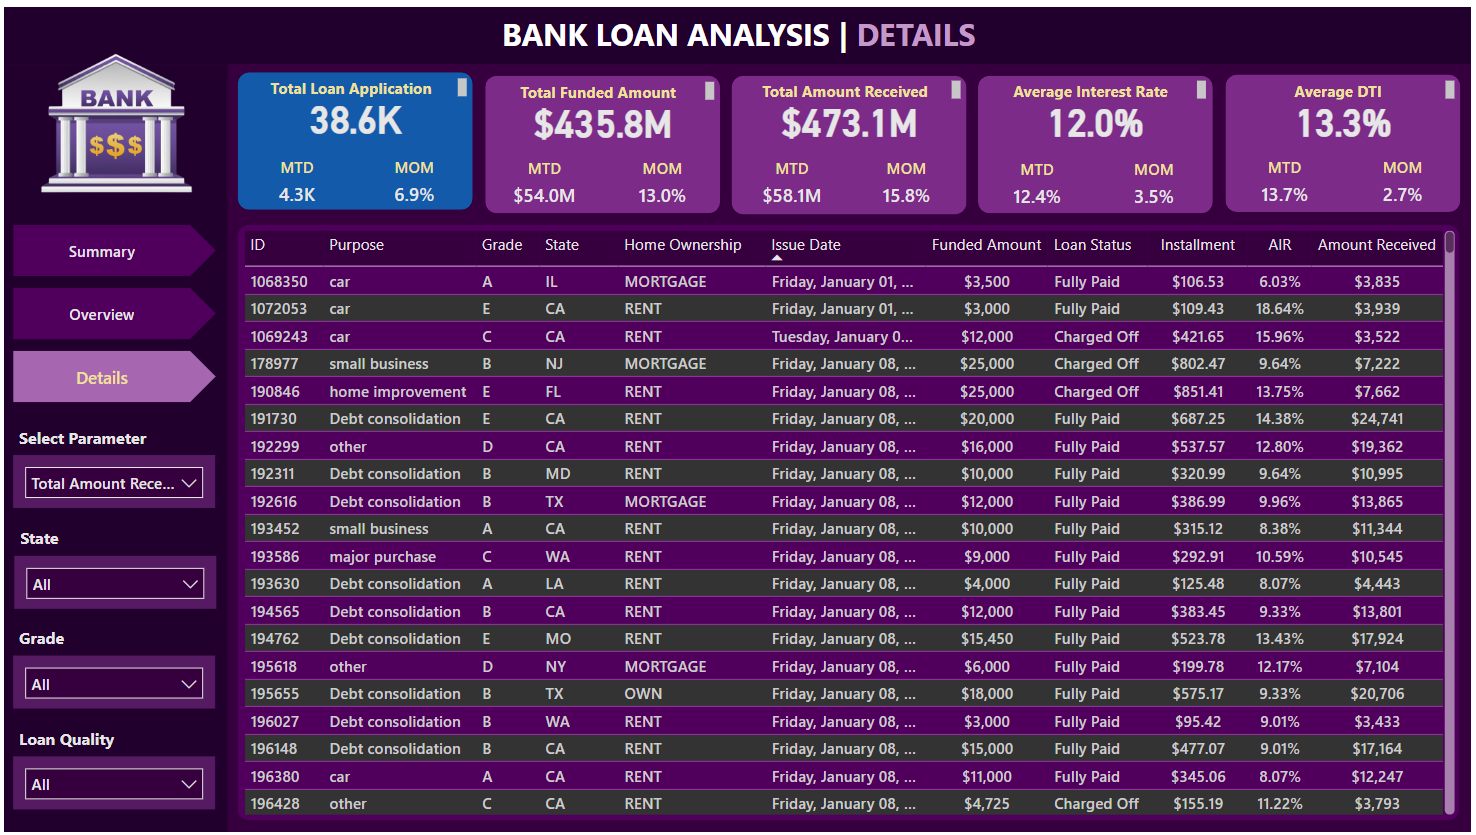

What the dashboard file says about the page in this screenshot:
{"tool":"powerbi","page":{"name":"Details","canvas":[1280,720],"ordinal":2},"visuals":[{"type":"shape","box":[0,0,1280,49.6],"z":0},{"type":"shape","box":[204.2,189.8,1066.5,519.8],"z":0,"group":"g6"},{"type":"shape","box":[0,49.5,195,670.4],"z":1000},{"type":"textbox","box":[401.1,0,479.9,49.4],"z":2000},{"type":"group","id":"g1","title":"Group 1","box":[204.1,57.3,205,124.5],"z":3000},{"type":"shape","box":[204.1,57.3,205,120],"z":3000,"group":"g1"},{"type":"shape","box":[1065.9,58.7,205,120],"z":3000,"group":"g4"},{"type":"shape","box":[419.6,59.8,205,120],"z":3000,"group":"g2"},{"type":"shape","box":[850.5,60,205,119.8],"z":3000,"group":"g3"},{"type":"shape","box":[635,59.5,205,121.1],"z":4000,"group":"g5"},{"type":"group","id":"g2","title":"Group 1","box":[419.6,59.8,205,123],"z":4000},{"type":"card","fields":{"Values":["loan_data.Total loan applications"]},"box":[204.1,73.8,205,45.9],"z":4000,"group":"g1"},{"type":"card","fields":{"Values":["loan_data.Average interest rate"]},"box":[850.5,75.2,204.5,45.9],"z":4000,"group":"g3"},{"type":"card","fields":{"Values":["loan_data.Average dti"]},"box":[1065.9,75.2,205,45.9],"z":4000,"group":"g4"},{"type":"card","fields":{"Values":["loan_data.Total funded amount"]},"box":[419.6,76.3,205,45.9],"z":4000,"group":"g2"},{"type":"textbox","box":[204.1,57.3,205,27.1],"z":5000,"group":"g1"},{"type":"group","id":"g3","title":"Group 1","box":[850.5,58.7,205,124.3],"z":5000},{"type":"textbox","box":[850.5,58.7,204.5,27.1],"z":5000,"group":"g3"},{"type":"textbox","box":[1065.9,58.7,205,27.1],"z":5000,"group":"g4"},{"type":"textbox","box":[419.6,59.8,205,27.1],"z":5000,"group":"g2"},{"type":"group","id":"g4","title":"Group 1","box":[1065.9,58.7,205,123],"z":6000},{"type":"card","fields":{"Values":["loan_data.Total amount received"]},"box":[635.5,75.2,204.4,45.9],"z":6000,"group":"g5"},{"type":"card","title":"MTD","fields":{"Values":["loan_data.MTD avg dti"]},"box":[1080.7,130.9,73.4,50.8],"z":6000,"group":"g4"},{"type":"card","title":"MTD","fields":{"Values":["loan_data.MTD loan application"]},"box":[218.7,131.2,73.6,50.6],"z":6000,"group":"g1"},{"type":"card","title":"MTD","fields":{"Values":["loan_data.MTD funded amount"]},"box":[434.4,132,73.4,50.8],"z":6000,"group":"g2"},{"type":"card","title":"MTD","fields":{"Values":["loan_data.MTD avg int rate"]},"box":[865.3,132.2,73.2,50.8],"z":6000,"group":"g3"},{"type":"group","id":"g5","title":"Group 2","box":[635,58.7,205,123.8],"z":7000},{"type":"textbox","box":[635.5,58.7,204.5,27.1],"z":7000,"group":"g5"},{"type":"card","title":"MOM","fields":{"Values":["loan_data.MOM avg dti"]},"box":[1183.5,130.9,73.4,50.8],"z":7000,"group":"g4"},{"type":"card","title":"MOM","fields":{"Values":["loan_data.MOM loan applications"]},"box":[321.2,131.2,73.6,50.6],"z":7000,"group":"g1"},{"type":"card","title":"MOM","fields":{"Values":["loan_data.MOM funded amount"]},"box":[537.2,132,73.4,50.8],"z":7000,"group":"g2"},{"type":"card","title":"MOM","fields":{"Values":["loan_data.MOM avg int rate"]},"box":[967.8,132.2,73.2,50.8],"z":7000,"group":"g3"},{"type":"card","title":"MTD","fields":{"Values":["loan_data.MTD amount received"]},"box":[651.1,131.7,73.2,50.8],"z":8000,"group":"g5"},{"type":"group","id":"g6","title":"Group 3","box":[204.2,189.8,1066.5,519.8],"z":8000},{"type":"group","id":"g7","title":"Group 4","box":[9.3,448.7,176.4,76.3],"z":9000},{"type":"card","title":"MOM","fields":{"Values":["loan_data.MOM amount received"]},"box":[750.9,131.7,73.2,50.8],"z":10000,"group":"g5"},{"type":"group","id":"g8","title":"Group 4","box":[8.3,536.4,176.4,76.3],"z":10000},{"type":"group","id":"g9","title":"Group 4","box":[8.3,624,176.4,76.3],"z":11000},{"type":"group","id":"g10","title":"Group 4","box":[8.3,361,176.4,76.3],"z":12000},{"type":"tableEx","fields":{"Values":["loan_data.id","loan_data.purpose","loan_data.grade","loan_data.address_state","loan_data.home_ownership","loan_data.issue_date","loan_data.Total Funded Amount","loan_data.loan_status","loan_data.installment","loan_data.int_rate","loan_data.Total Amount Received"]},"box":[204.2,189.8,1066.5,519.8],"z":13000},{"type":"pageNavigator","box":[8.3,189.8,176.4,155.7],"z":14000},{"type":"textbox","box":[8.3,361,176.4,28.9],"z":14500,"group":"g10"},{"type":"textbox","box":[9.3,448.7,176.4,28.9],"z":14500,"group":"g7"},{"type":"textbox","box":[8.3,536.4,176.4,28.9],"z":14500,"group":"g8"},{"type":"textbox","box":[8.3,624,176.4,28.9],"z":14500,"group":"g9"},{"type":"image","box":[0,17.5,194.9,165],"z":15000},{"type":"slicer","fields":{"Values":["Select Measure.Select Measure"]},"box":[8.3,390.9,176.4,46.4],"z":15000,"group":"g10"},{"type":"slicer","fields":{"Values":["loan_data.address_state"]},"box":[9.3,478.6,176.4,46.4],"z":15000,"group":"g7"},{"type":"slicer","fields":{"Values":["loan_data.grade","loan_data.sub_grade"]},"box":[8.3,566.3,176.4,46.4],"z":15000,"group":"g8"},{"type":"slicer","fields":{"Values":["loan_data.Good vs Bad Loan"]},"box":[8.3,653.9,176.4,46.4],"z":15000,"group":"g9"}]}

Visuals, with their boxes in screenshot pixels (x1, y1, x2, y2), scaled from the page's 1280x720 canvas onto the 1476x835 screenshot:
shape: (0, 0, 1475, 58)
shape: (235, 220, 1465, 823)
shape: (0, 57, 225, 834)
textbox: (463, 0, 1016, 57)
"Group 1" group: (235, 66, 472, 211)
shape: (235, 66, 472, 206)
shape: (1229, 68, 1466, 207)
shape: (484, 69, 720, 209)
shape: (981, 70, 1217, 209)
shape: (732, 69, 969, 209)
"Group 1" group: (484, 69, 720, 212)
card - loan_data.Total loan applications: (235, 86, 472, 139)
card - loan_data.Average interest rate: (981, 87, 1217, 140)
card - loan_data.Average dti: (1229, 87, 1466, 140)
card - loan_data.Total funded amount: (484, 88, 720, 142)
textbox: (235, 66, 472, 98)
"Group 1" group: (981, 68, 1217, 212)
textbox: (981, 68, 1217, 100)
textbox: (1229, 68, 1466, 100)
textbox: (484, 69, 720, 101)
"Group 1" group: (1229, 68, 1466, 211)
card - loan_data.Total amount received: (733, 87, 969, 140)
"MTD" card: (1246, 152, 1331, 211)
"MTD" card: (252, 152, 337, 211)
"MTD" card: (501, 153, 586, 212)
"MTD" card: (998, 153, 1082, 212)
"Group 2" group: (732, 68, 969, 212)
textbox: (733, 68, 969, 100)
"MOM" card: (1365, 152, 1449, 211)
"MOM" card: (370, 152, 455, 211)
"MOM" card: (619, 153, 704, 212)
"MOM" card: (1116, 153, 1200, 212)
"MTD" card: (751, 153, 835, 212)
"Group 3" group: (235, 220, 1465, 823)
"Group 4" group: (11, 520, 214, 609)
"MOM" card: (866, 153, 950, 212)
"Group 4" group: (10, 622, 213, 711)
"Group 4" group: (10, 724, 213, 812)
"Group 4" group: (10, 419, 213, 507)
tableEx - loan_data.id x loan_data.purpose: (235, 220, 1465, 823)
pageNavigator: (10, 220, 213, 401)
textbox: (10, 419, 213, 452)
textbox: (11, 520, 214, 554)
textbox: (10, 622, 213, 656)
textbox: (10, 724, 213, 757)
image: (0, 20, 225, 212)
slicer - Select Measure.Select Measure: (10, 453, 213, 507)
slicer - loan_data.address_state: (11, 555, 214, 609)
slicer - loan_data.grade x loan_data.sub_grade: (10, 657, 213, 711)
slicer - loan_data.Good vs Bad Loan: (10, 758, 213, 812)
